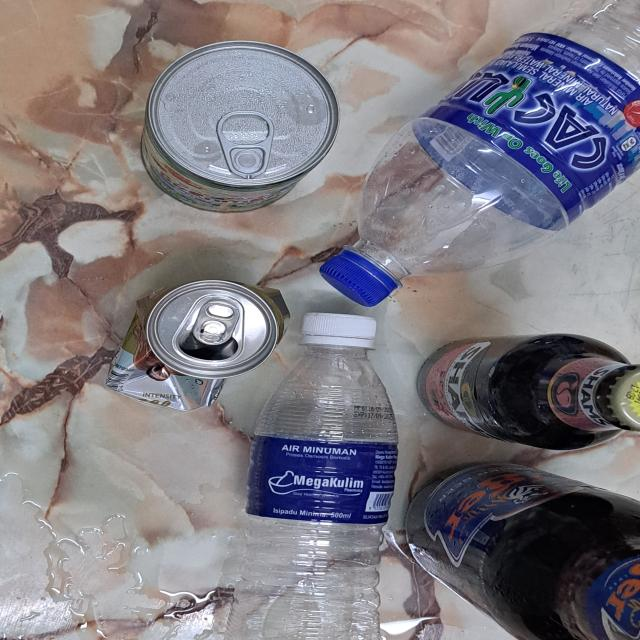can: (143, 39, 339, 213), (106, 277, 292, 413)
glass bottle: (406, 459, 640, 640), (416, 333, 640, 452)
plastic bottle: (353, 0, 640, 274), (237, 347, 401, 640)
plastic bottle cap: (318, 250, 398, 306), (300, 312, 376, 350)
pop tab: (217, 111, 273, 178), (193, 297, 238, 346)
